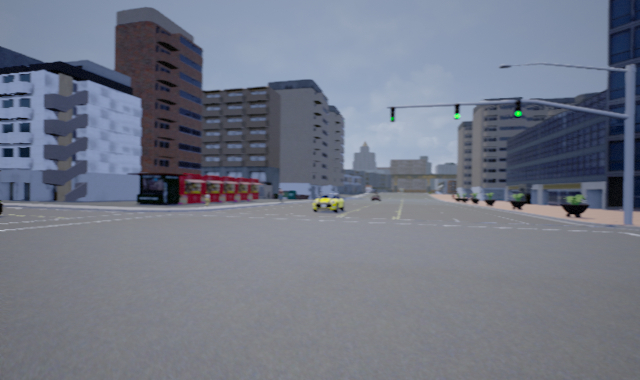traffic_light: (513, 96, 523, 120), (454, 102, 460, 119), (390, 106, 396, 122)
vehicle: (310, 192, 345, 213)
